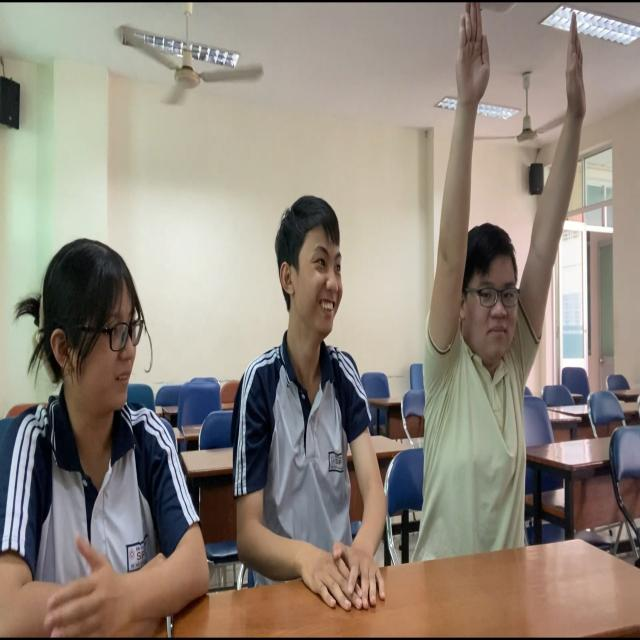raise_hand: (421, 1, 588, 567)
